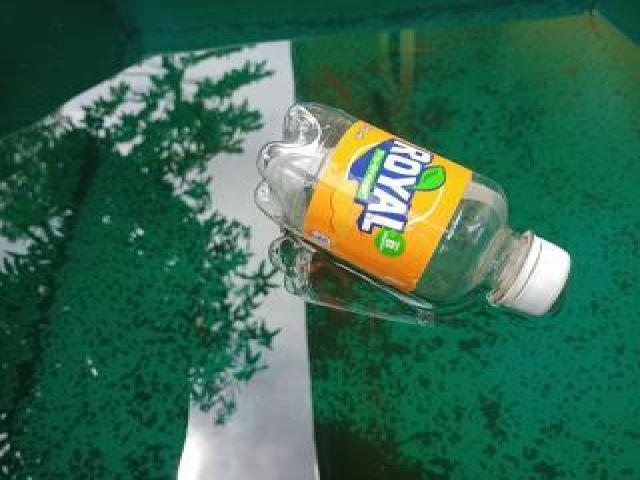Bottle: (250, 94, 580, 324)
